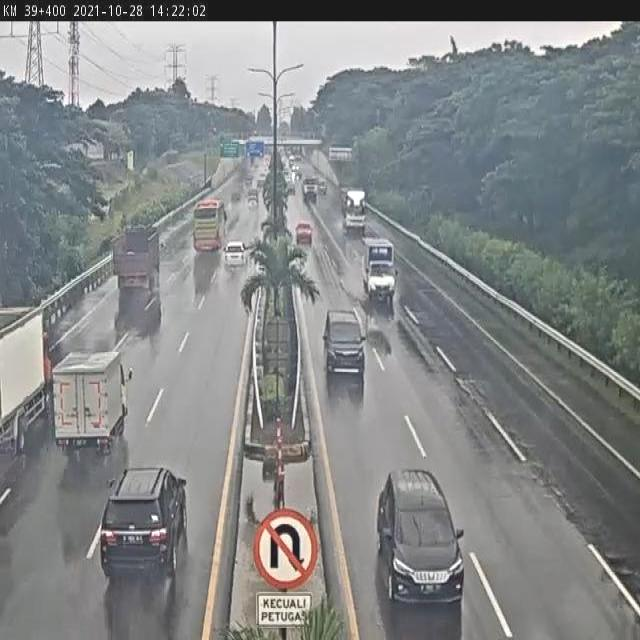Car: (380, 469, 466, 606), (98, 466, 188, 581), (324, 308, 374, 382), (223, 240, 247, 267), (295, 222, 313, 246)
Truck: (0, 303, 57, 438), (50, 353, 126, 454), (112, 216, 160, 298), (361, 235, 398, 296), (196, 195, 226, 263), (342, 178, 368, 229)
